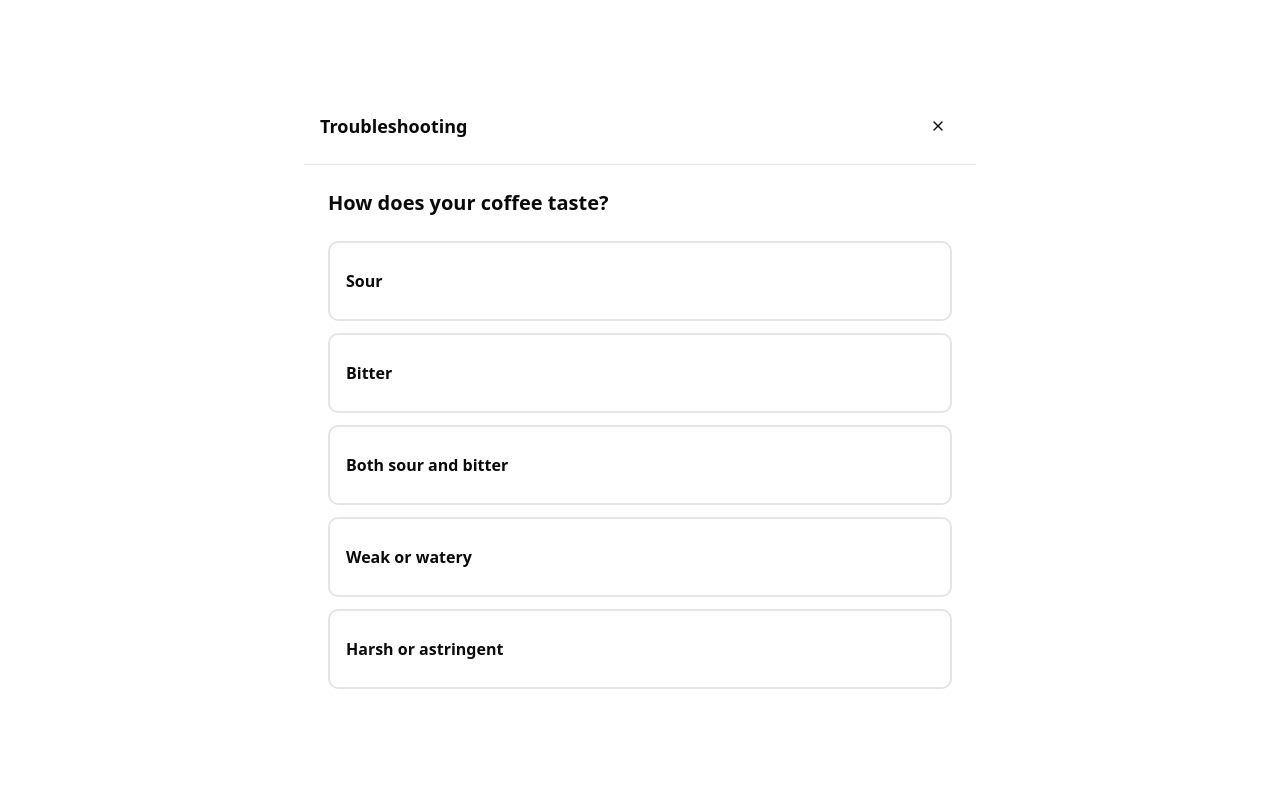
TroubleshootingTree › resets to root when Start Over clicked
Click the button "Sour" at coordinates (364, 280), box [328, 240, 952, 320]
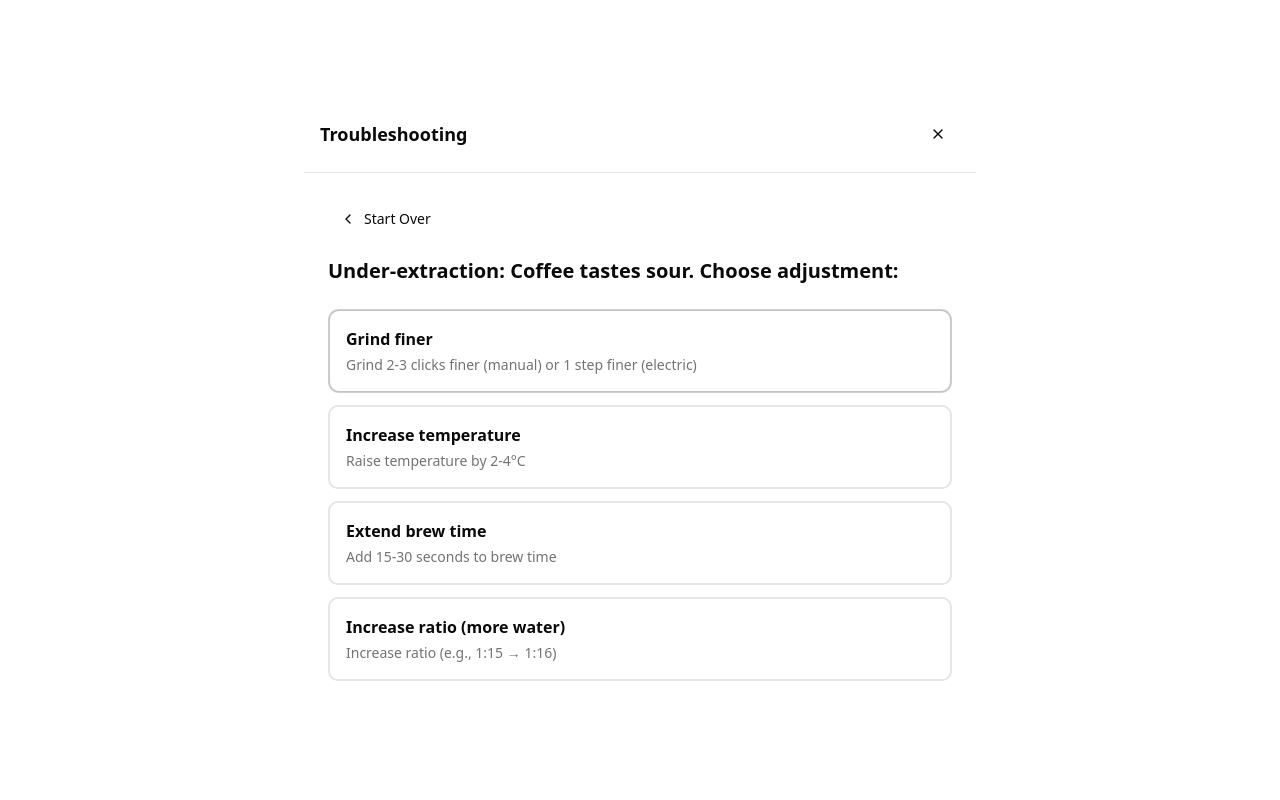
Click the button "Start Over" at coordinates (385, 218), box [328, 196, 443, 240]
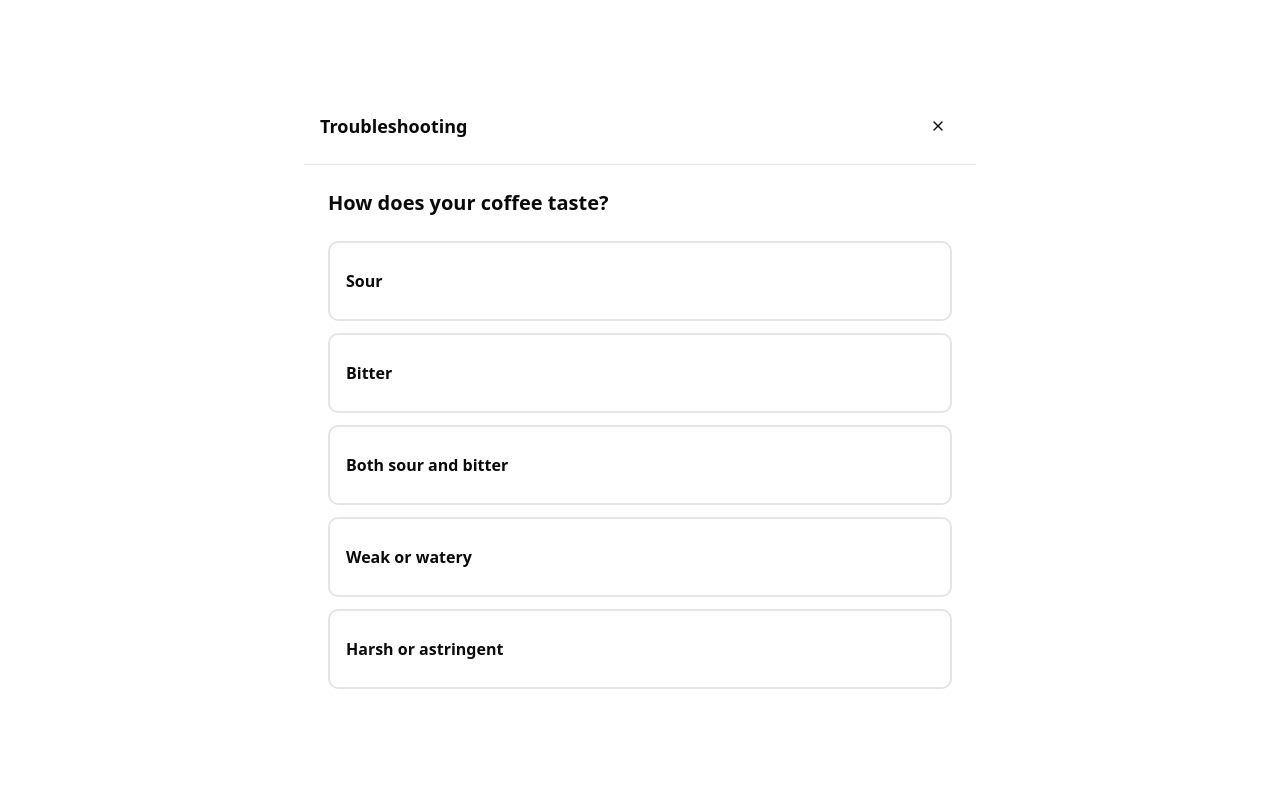
Expected: the button "Start Over" is gone
